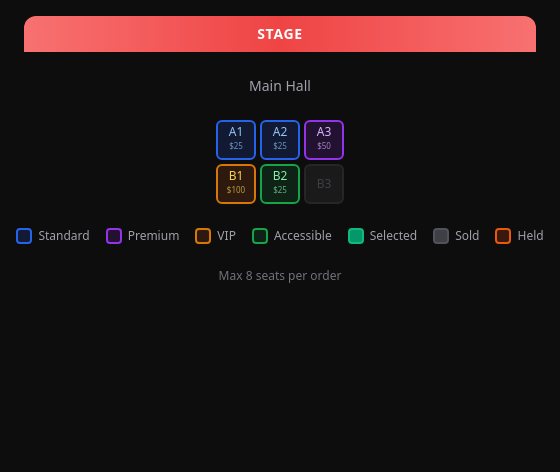
Test: SeatPicker › shows selection summary with total price
This screenshot has width=560, height=472.
Click the button named "Seat A1" at (236, 140), box [216,120,256,160]
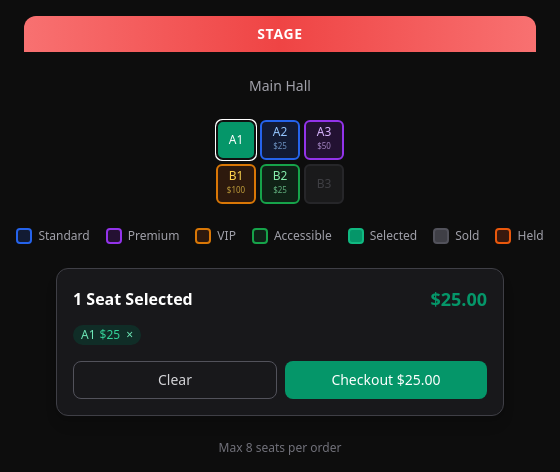
Expected: the heading "1 Seat Selected" is shown, [73,287,193,311]
Expected: the text "$25.00" is shown, [430,285,487,313]
